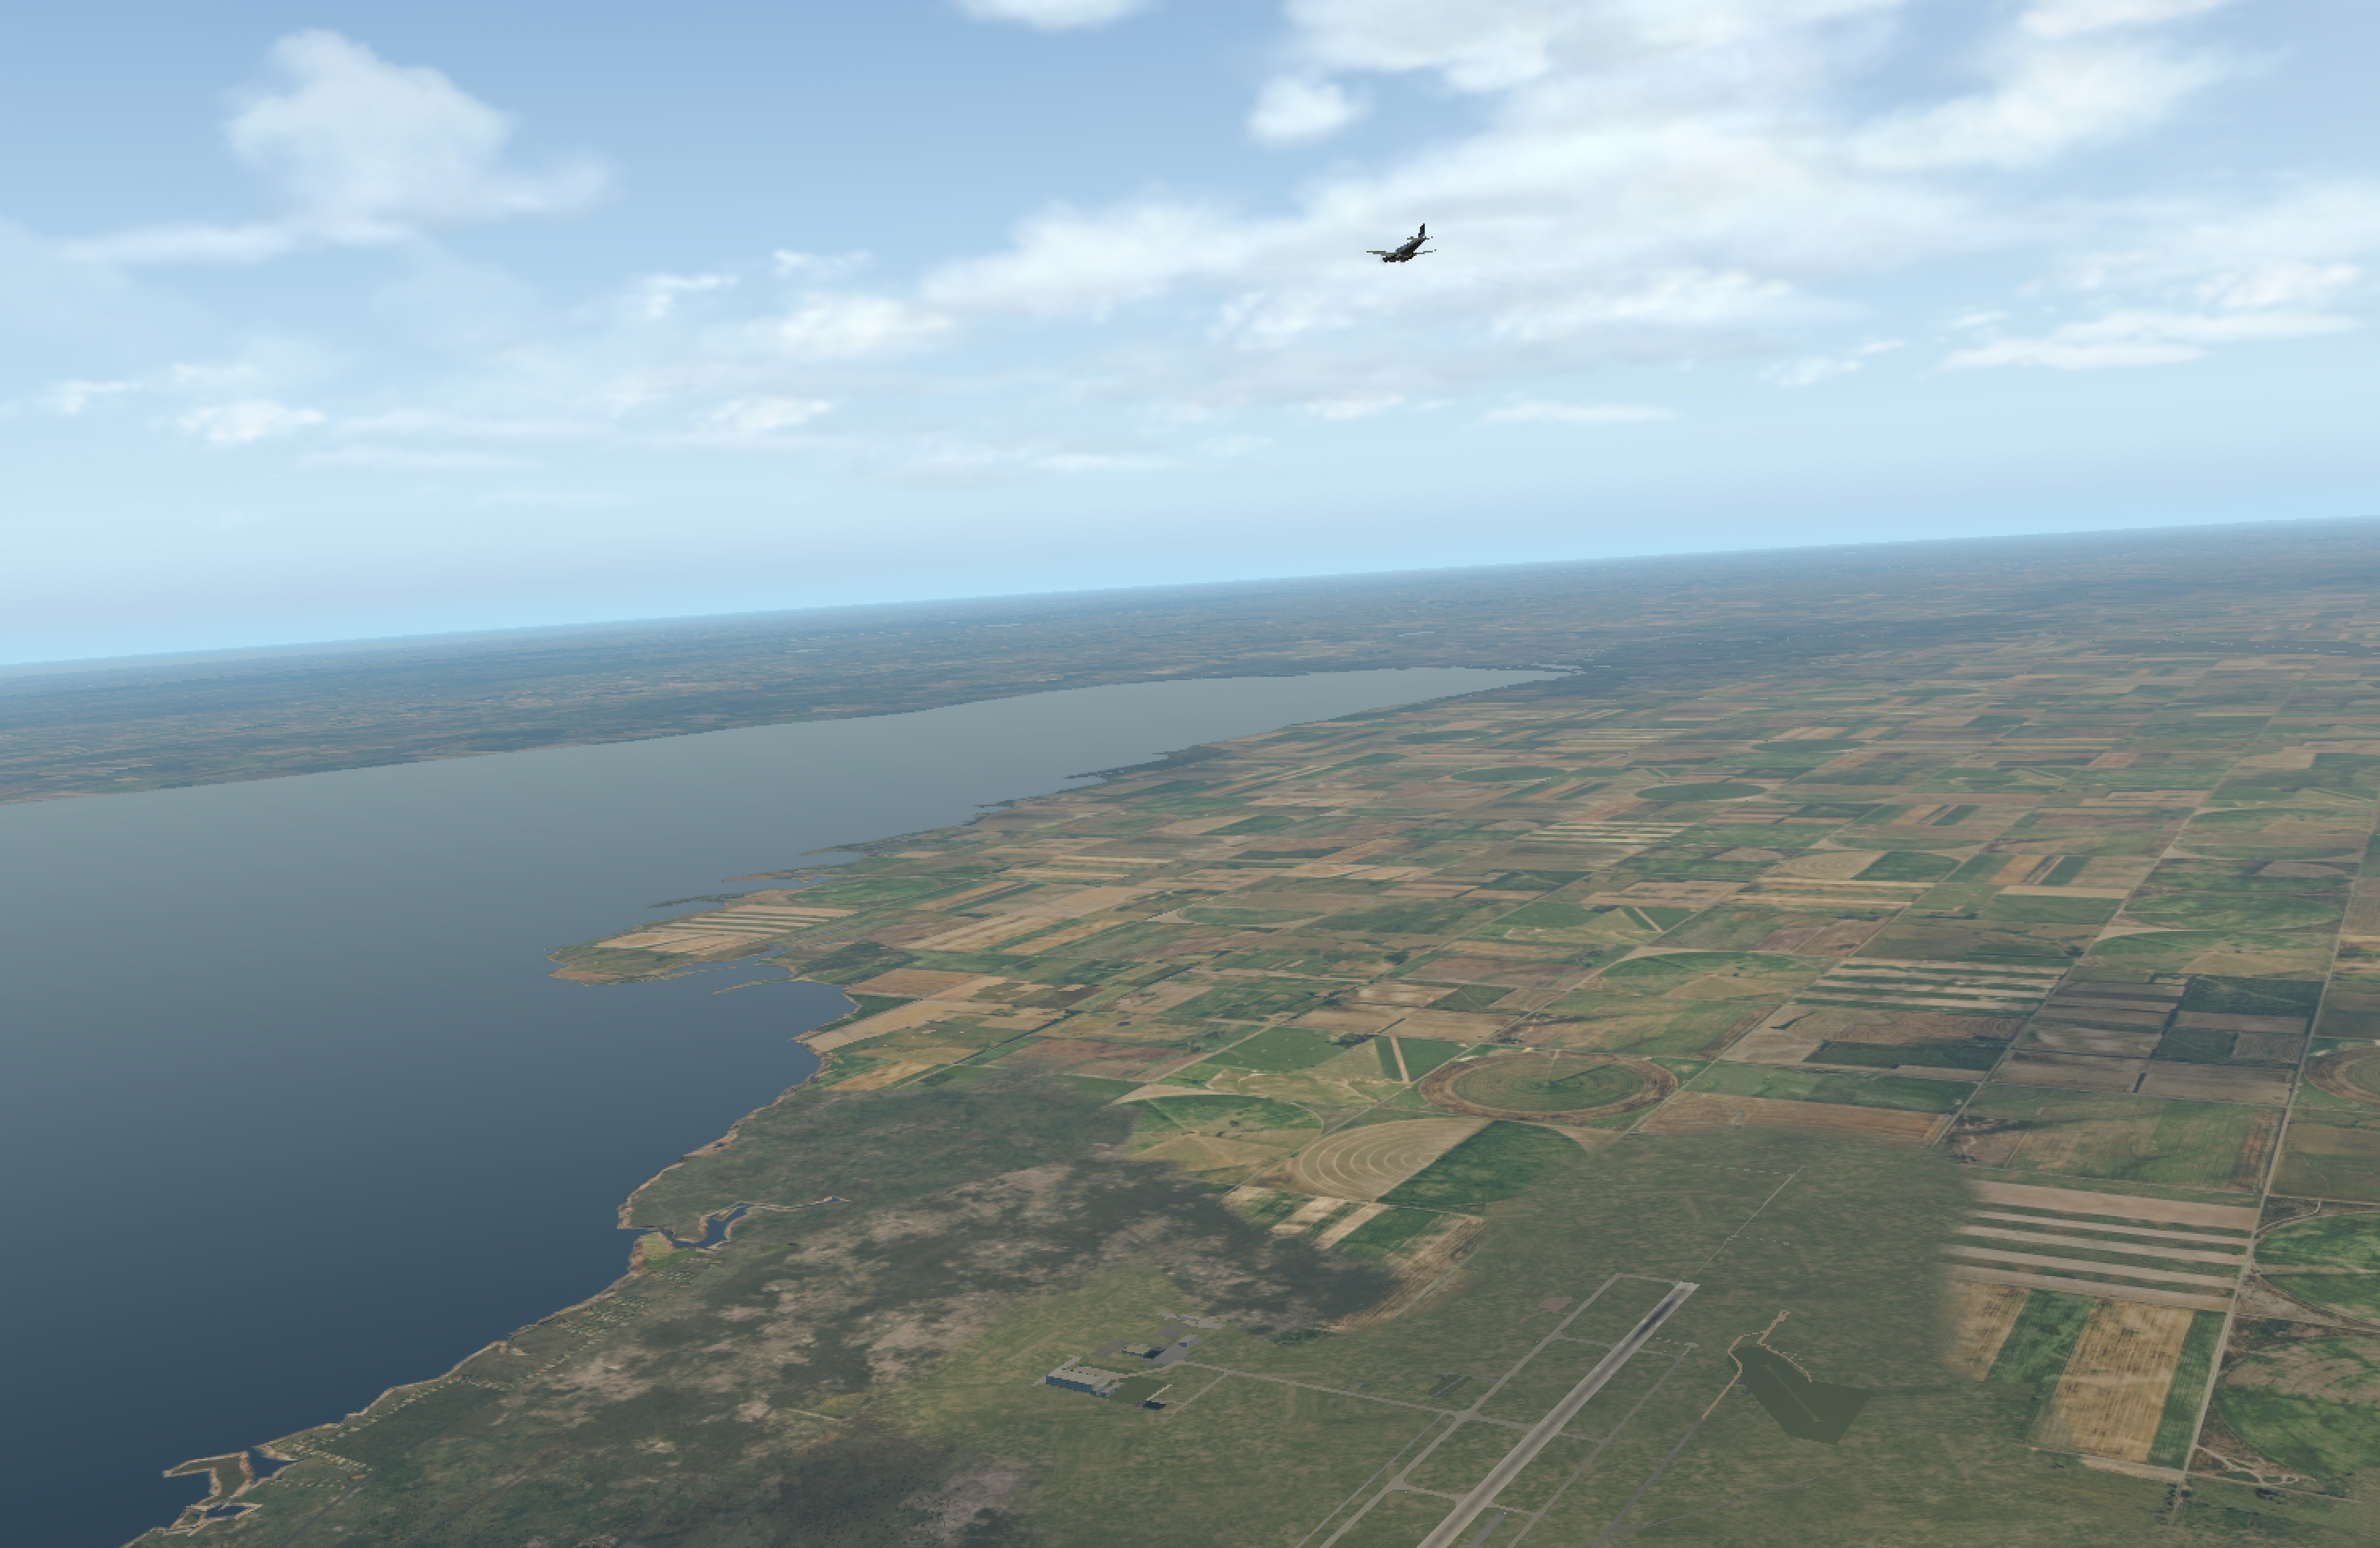aircraft: (1358, 241, 1445, 274)
